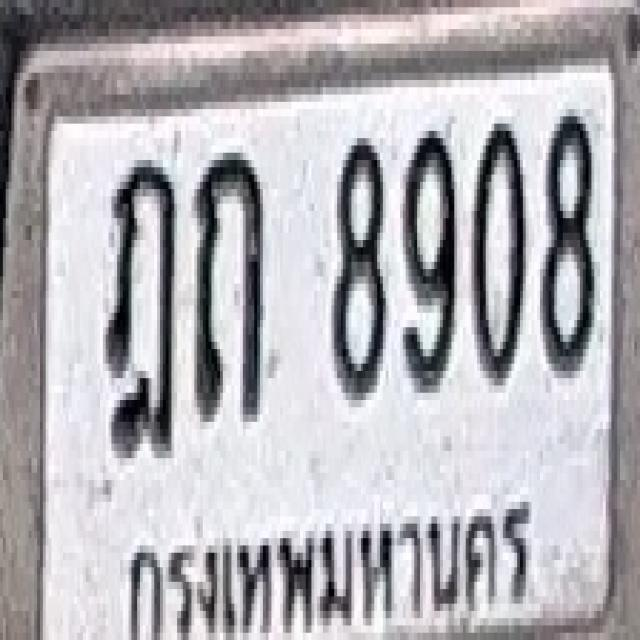0: (471, 117, 526, 386)
8: (331, 131, 386, 400), (540, 109, 594, 371)
9: (401, 124, 456, 392)
A14: (104, 153, 176, 458)
A22: (193, 145, 264, 422)
BKK: (121, 498, 549, 640)
